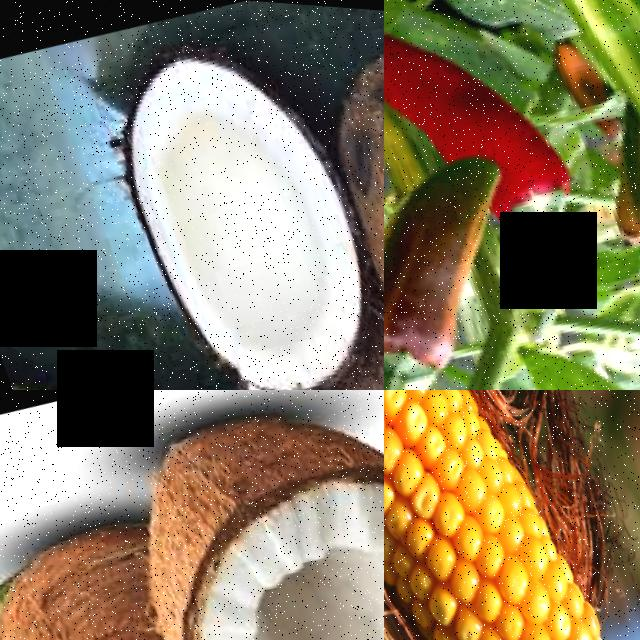chilli: (384, 135, 552, 390), (508, 0, 640, 239), (384, 0, 517, 170)
coconut: (81, 12, 384, 390), (93, 390, 384, 640), (0, 503, 257, 640), (294, 0, 384, 390)
corn: (384, 390, 639, 640)
